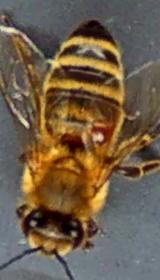varroa_mite: (77, 108, 126, 152)
